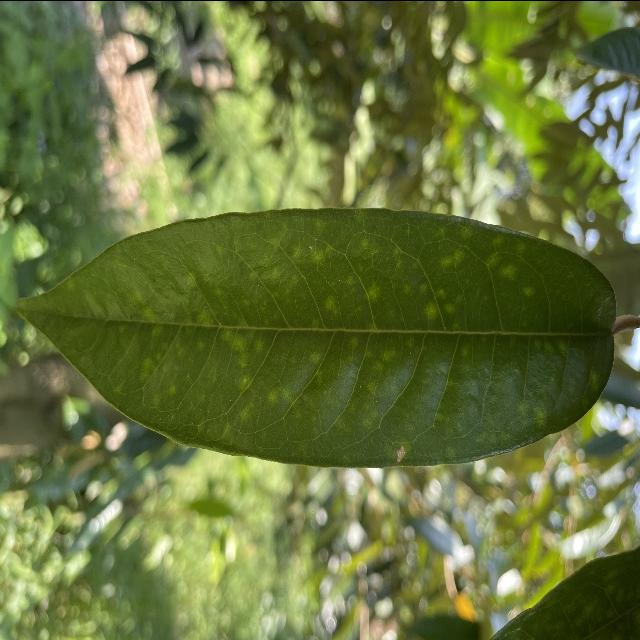Leaf Spot: (4, 194, 629, 479)
